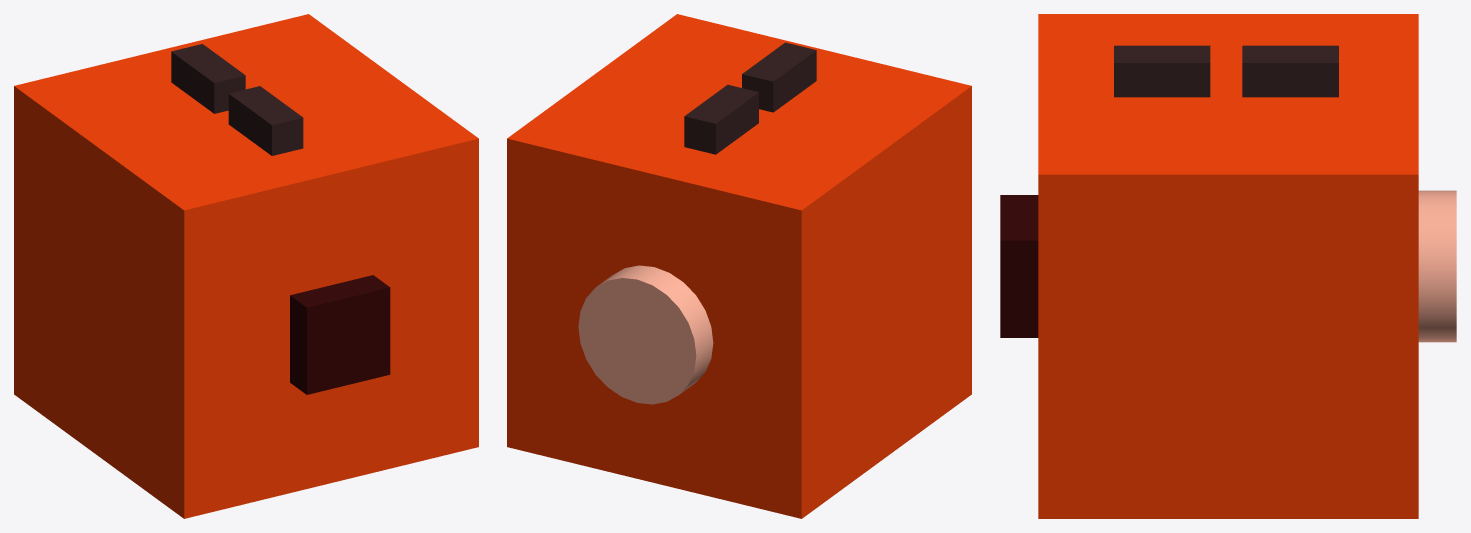
The model's file is Decrement_Operator.dae.
3 views of the same model, side by side, from view 1: azimuth 30°, elevation 25°; view 2: azimuth 150°, elevation 25°; view 3: azimuth 270°, elevation 25° (orthographic). The views are drawn at different scales.
Parts seen in each view (by area): view 1: SketchUp (×2), instance_0; view 2: SketchUp (×2), instance_0; view 3: SketchUp (×3), instance_0.
Boxes of the visible parts, <box> form: SketchUp (×2): <box>14,14,478,518</box>; instance_0: <box>171,44,303,155</box>; SketchUp (×2): <box>507,14,971,518</box>; instance_0: <box>684,42,816,154</box>; SketchUp (×3): <box>1000,14,1456,518</box>; instance_0: <box>1114,45,1338,97</box>.
Size of the model in its own units: 39.37 by 47.24 by 43.31.
